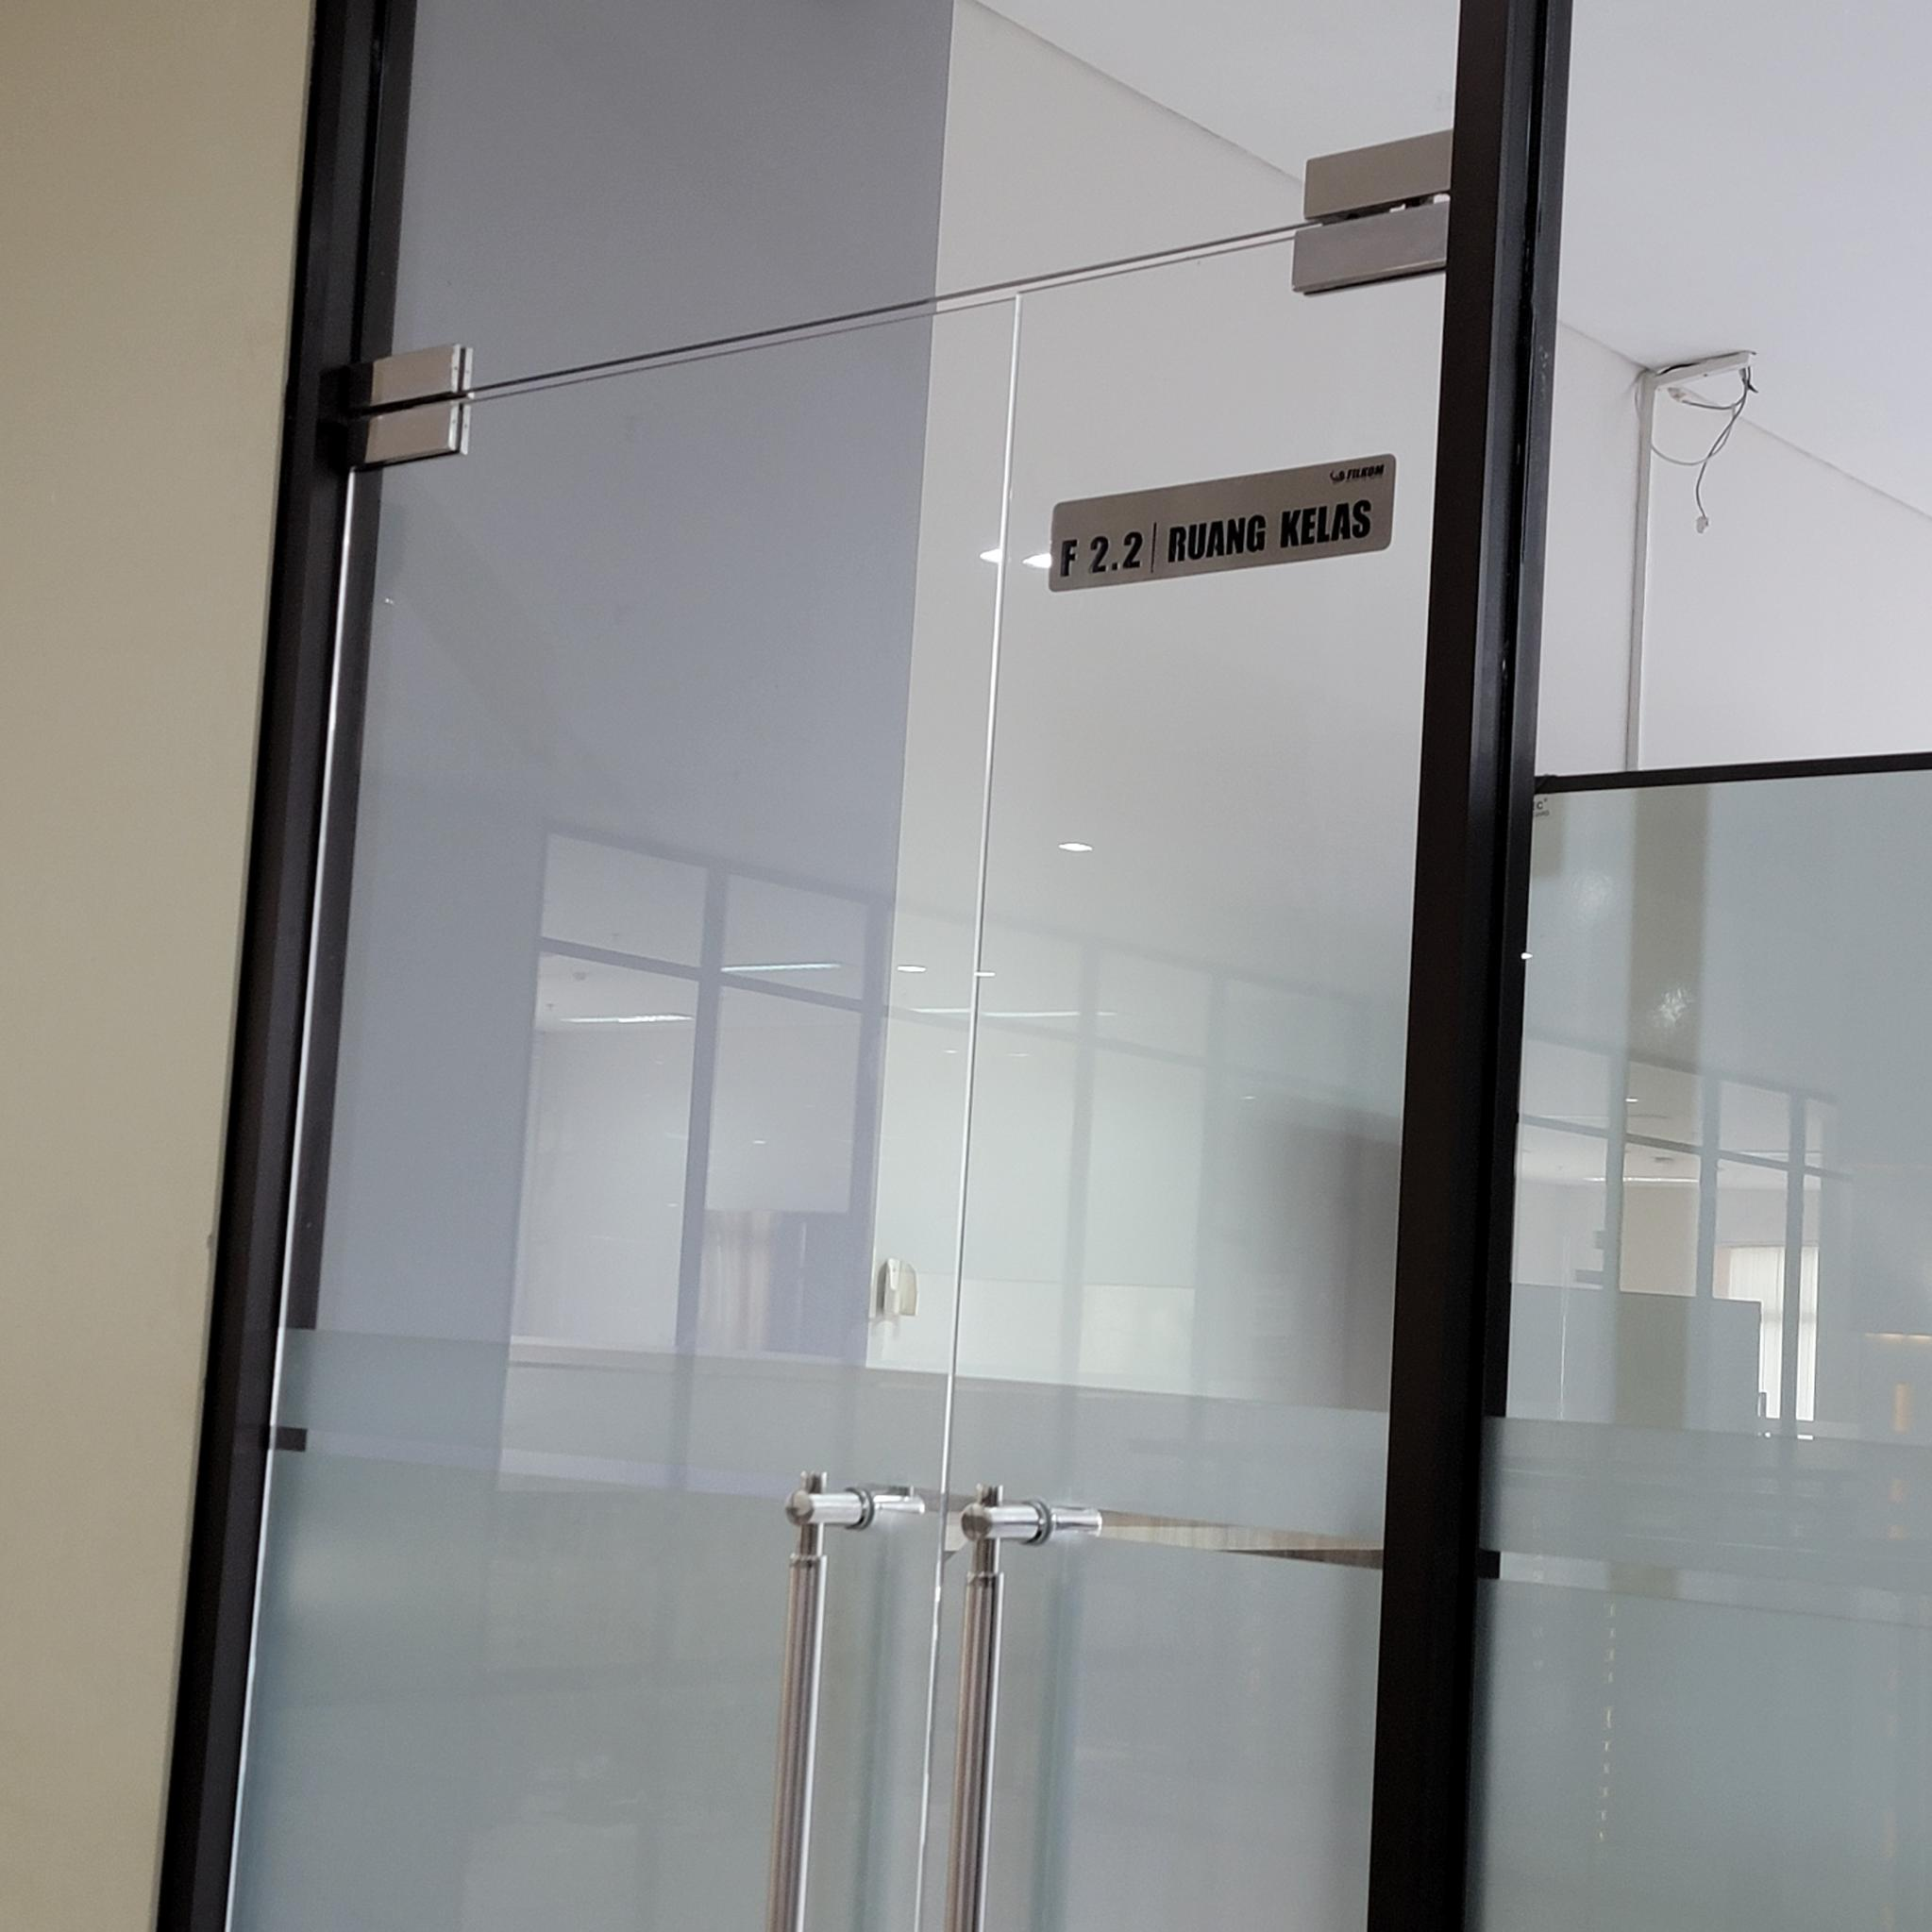plate: (1047, 455, 1396, 594)
